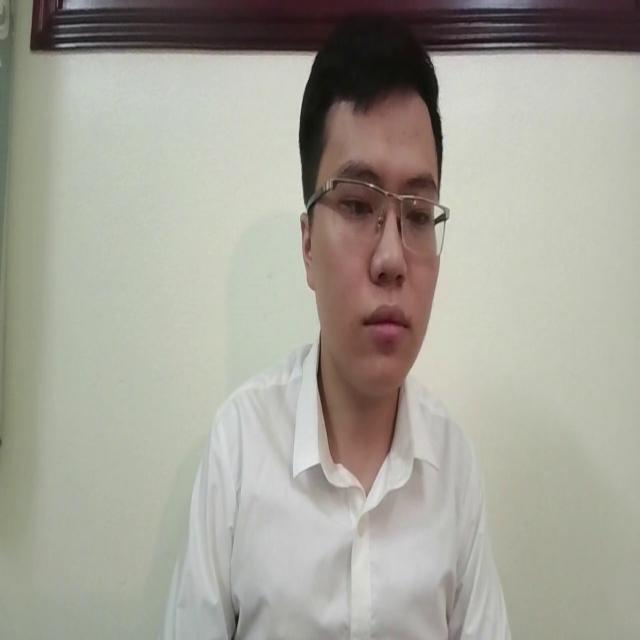student: (154, 15, 508, 640)
